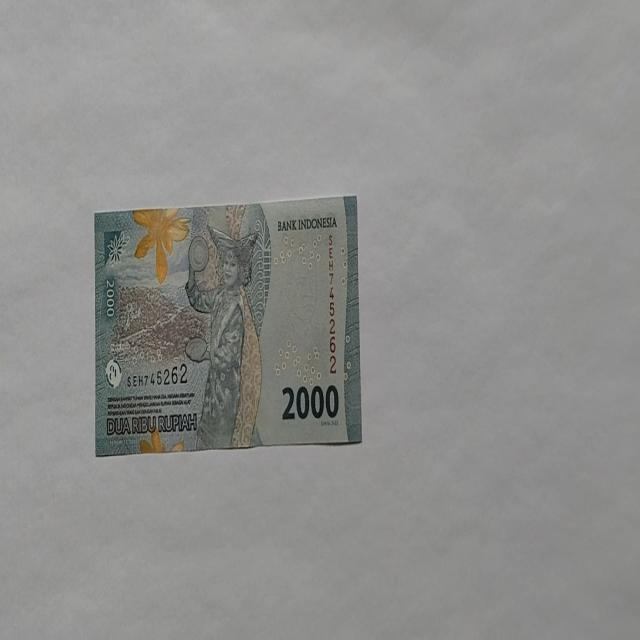dua ribu rupiah: (94, 194, 362, 456), (183, 224, 263, 450)
